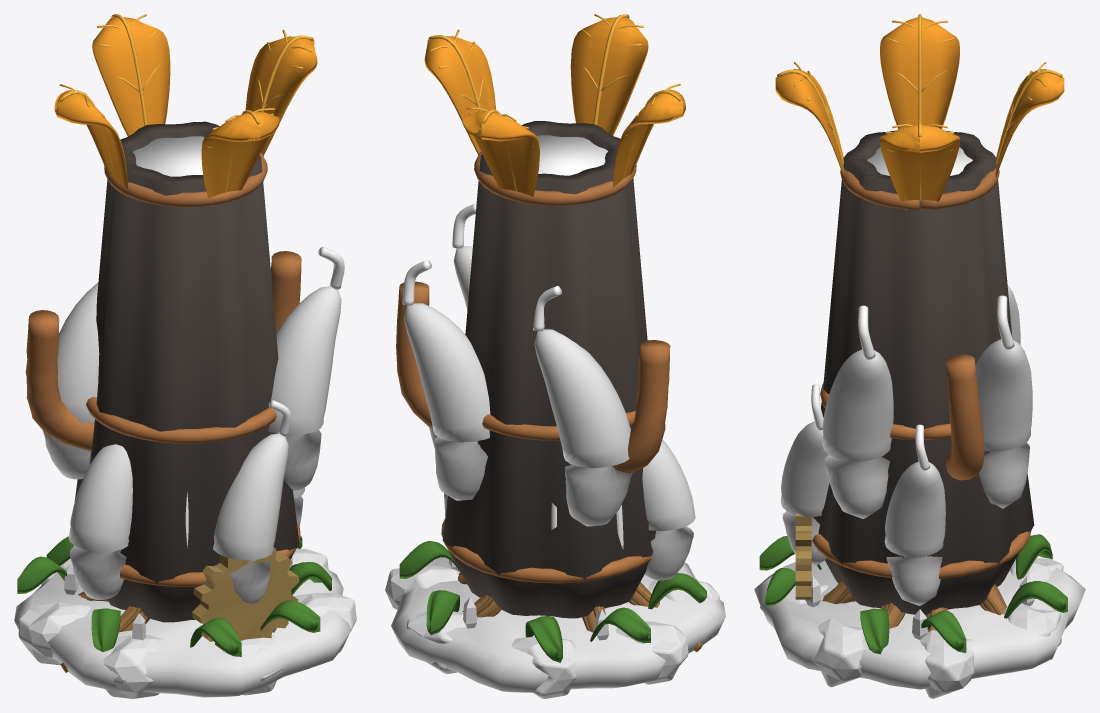
The model's file is chili-5.fbx.
The picture shows the model from 3 angles, left to right: view 1: azimuth 30°, elevation 25°; view 2: azimuth 150°, elevation 25°; view 3: azimuth 270°, elevation 25°; orthographic projection. The views are drawn at different scales.
Parts seen in each view (by area): view 1: Turret_Metal, Pods_PortalPeel, Petals_Glow, EarthBed, chili-5_Stone, chili-5_PortalBamboo, Barrel_Metal, Core_Glow, Pods_PortalBamboo, chili-5_SuperGlow, chili-5_Bark; view 2: Turret_Metal, Pods_PortalPeel, Petals_Glow, EarthBed, chili-5_Stone, chili-5_PortalBamboo, Core_Glow, Pods_PortalBamboo, chili-5_Bark, chili-5_SuperGlow; view 3: Turret_Metal, Pods_PortalPeel, Petals_Glow, EarthBed, chili-5_Stone, chili-5_PortalBamboo, Pods_PortalBamboo, Barrel_Metal, chili-5_Bark, chili-5_SuperGlow, Core_Glow.
Part boxes in pixels (<box>): Turret_Metal: <box>25,121,301,622</box>; Pods_PortalPeel: <box>42,282,341,603</box>; Petals_Glow: <box>54,14,317,206</box>; EarthBed: <box>14,562,351,697</box>; chili-5_Stone: <box>18,548,356,698</box>; chili-5_PortalBamboo: <box>17,536,331,656</box>; Barrel_Metal: <box>192,547,299,650</box>; Core_Glow: <box>87,136,204,552</box>; Pods_PortalBamboo: <box>269,246,344,436</box>; chili-5_SuperGlow: <box>64,557,292,640</box>; chili-5_Bark: <box>61,591,294,672</box>; Turret_Metal: <box>396,121,670,618</box>; Pods_PortalPeel: <box>404,246,695,580</box>; Petals_Glow: <box>424,14,685,204</box>; EarthBed: <box>391,557,725,692</box>; chili-5_Stone: <box>385,565,719,698</box>; chili-5_PortalBamboo: <box>399,541,706,662</box>; Core_Glow: <box>537,135,623,549</box>; Pods_PortalBamboo: <box>402,203,562,331</box>; chili-5_Bark: <box>458,572,702,651</box>; chili-5_SuperGlow: <box>449,559,608,640</box>; Turret_Metal: <box>812,130,1034,614</box>; Pods_PortalPeel: <box>780,285,1032,605</box>; Petals_Glow: <box>775,14,1064,210</box>; EarthBed: <box>754,559,1085,689</box>; chili-5_Stone: <box>760,558,1063,698</box>; chili-5_PortalBamboo: <box>759,534,1067,654</box>; Pods_PortalBamboo: <box>811,295,1014,470</box>; Barrel_Metal: <box>795,513,811,599</box>; chili-5_Bark: <box>822,581,1006,631</box>; chili-5_SuperGlow: <box>805,576,1034,639</box>; Core_Glow: <box>867,147,972,175</box>.
Bounding box in the file's own units: 83.98 × 156 × 82.7.
